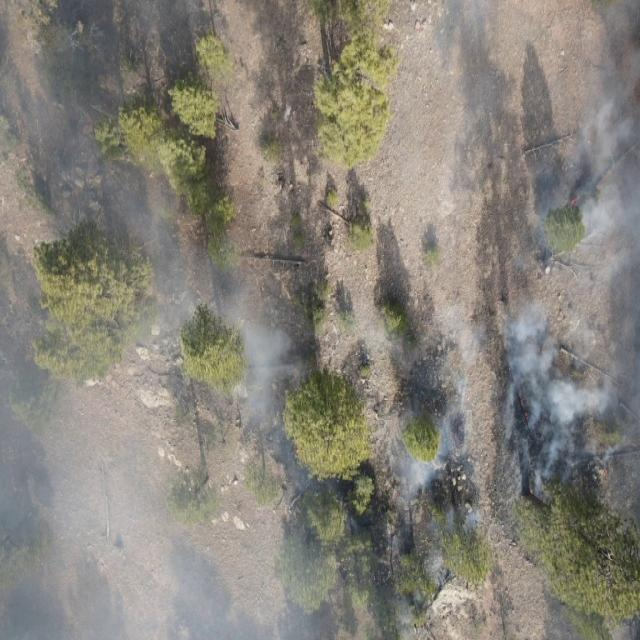fire: (570, 192, 584, 208), (292, 442, 303, 457)
smoke: (0, 292, 479, 640), (0, 0, 240, 292), (504, 95, 640, 504)
